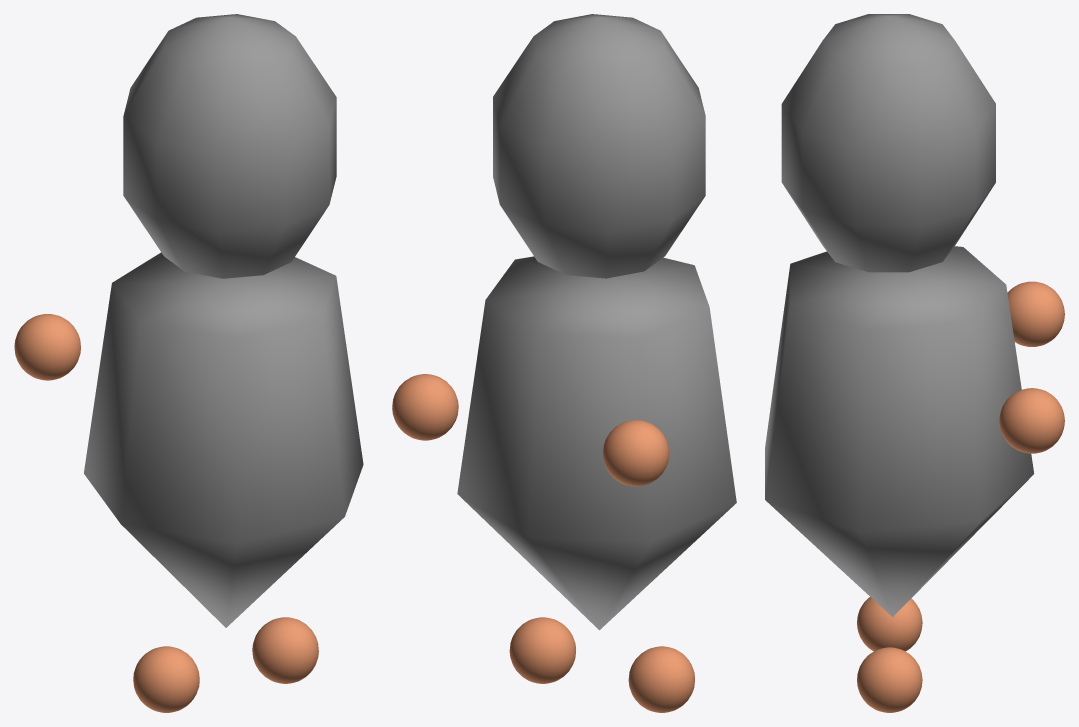
Rendered from Player.FBX.
3 views of the same model, side by side, from view 1: azimuth 30°, elevation 25°; view 2: azimuth 150°, elevation 25°; view 3: azimuth 270°, elevation 25° (orthographic).
Parts seen in each view (by area): view 1: Body, Head, Leg1, Leg2, Hand; view 2: Body, Head, Hand (×2), Leg2, Leg1; view 3: Body, Head, Hand (×2), Leg1, Leg2.
Boxes of the visible parts, x1=… form: Body: x1=84, y1=252, x2=363, y2=627; Head: x1=123, y1=14, x2=336, y2=278; Leg1: x1=252, y1=617, x2=318, y2=683; Leg2: x1=133, y1=646, x2=199, y2=712; Hand: x1=14, y1=314, x2=80, y2=380; Body: x1=457, y1=256, x2=736, y2=630; Head: x1=493, y1=14, x2=705, y2=278; Hand (×2): x1=392, y1=374, x2=669, y2=486; Leg2: x1=628, y1=646, x2=694, y2=712; Leg1: x1=509, y1=617, x2=575, y2=683; Body: x1=765, y1=246, x2=1034, y2=617; Head: x1=781, y1=14, x2=995, y2=272; Hand (×2): x1=999, y1=281, x2=1064, y2=453; Leg1: x1=857, y1=647, x2=922, y2=712; Leg2: x1=857, y1=597, x2=922, y2=651.
Size of the model in its own units: 24.08 by 58 by 23.65.
